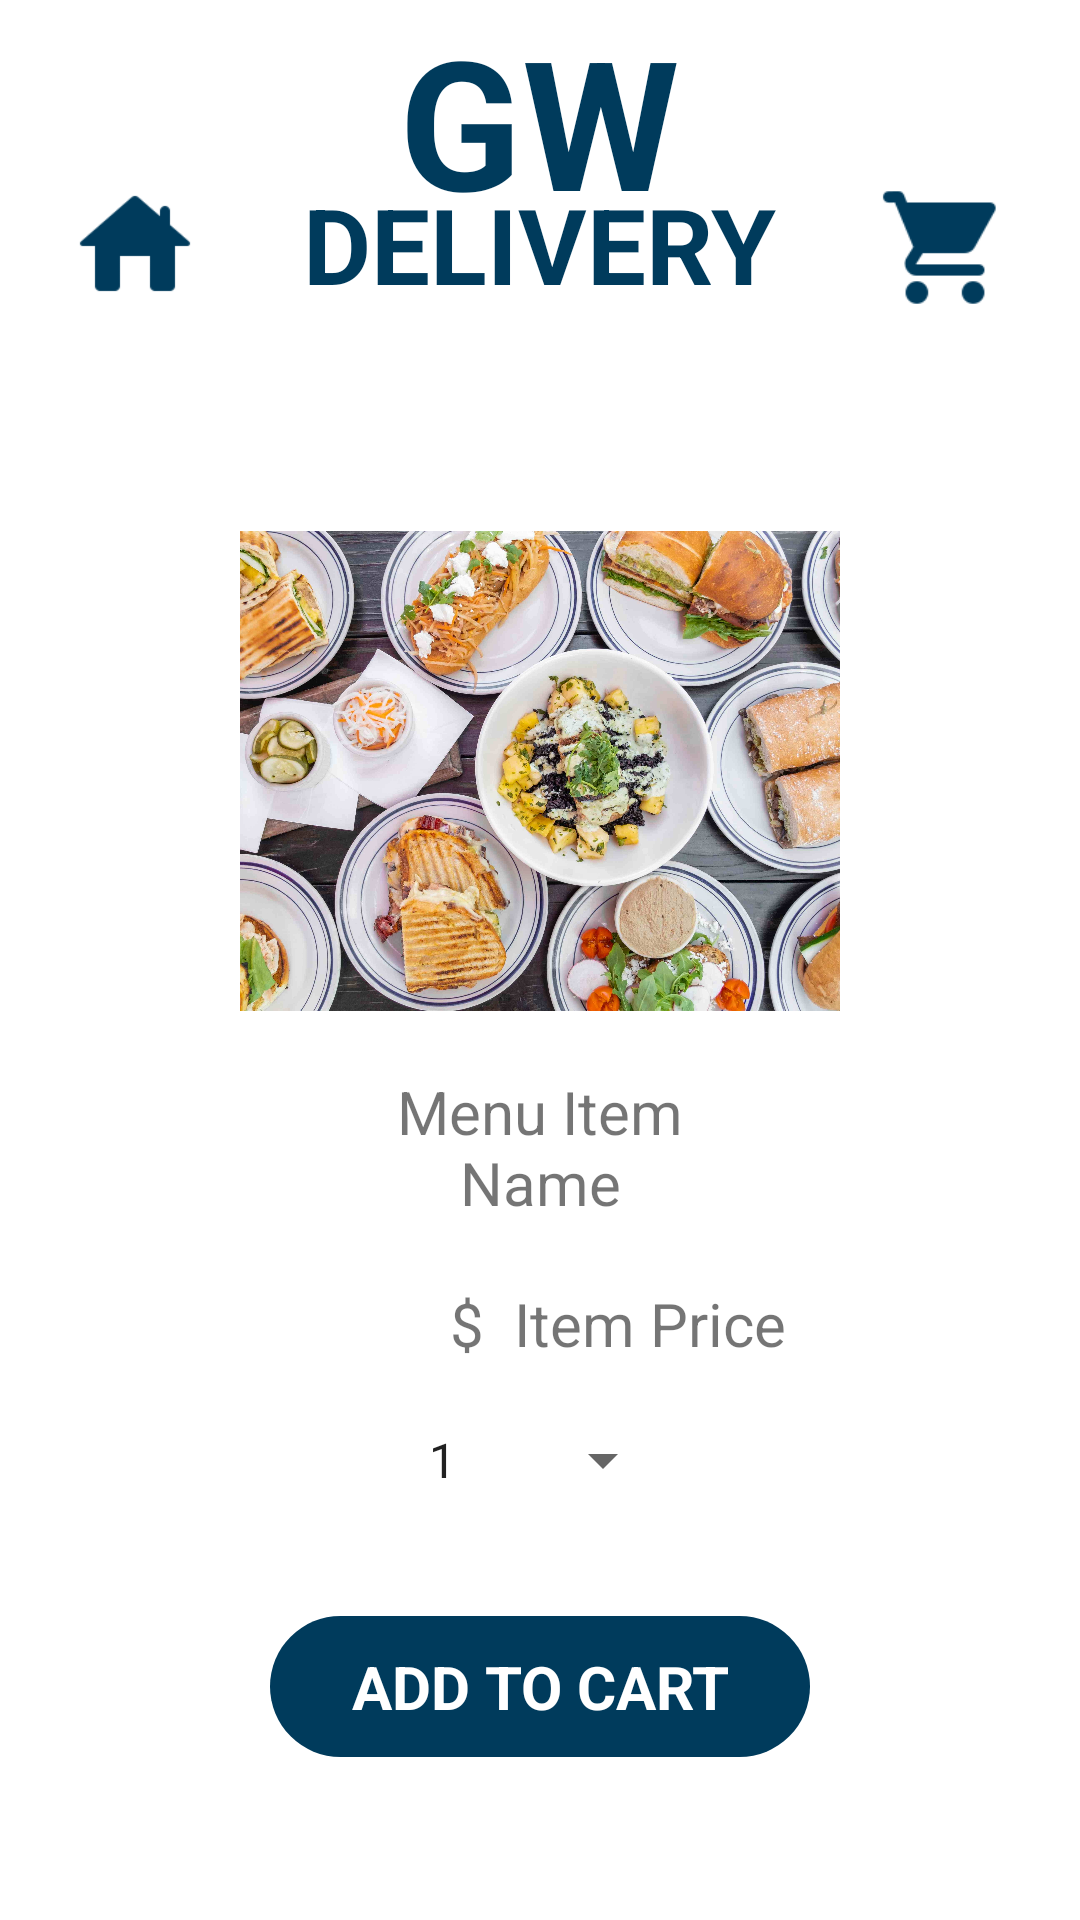

Where to tap for icons on this 1080 x 1920 app screen, as point (x, y):
home: point (135, 244)
shopping cart: point (939, 247)
